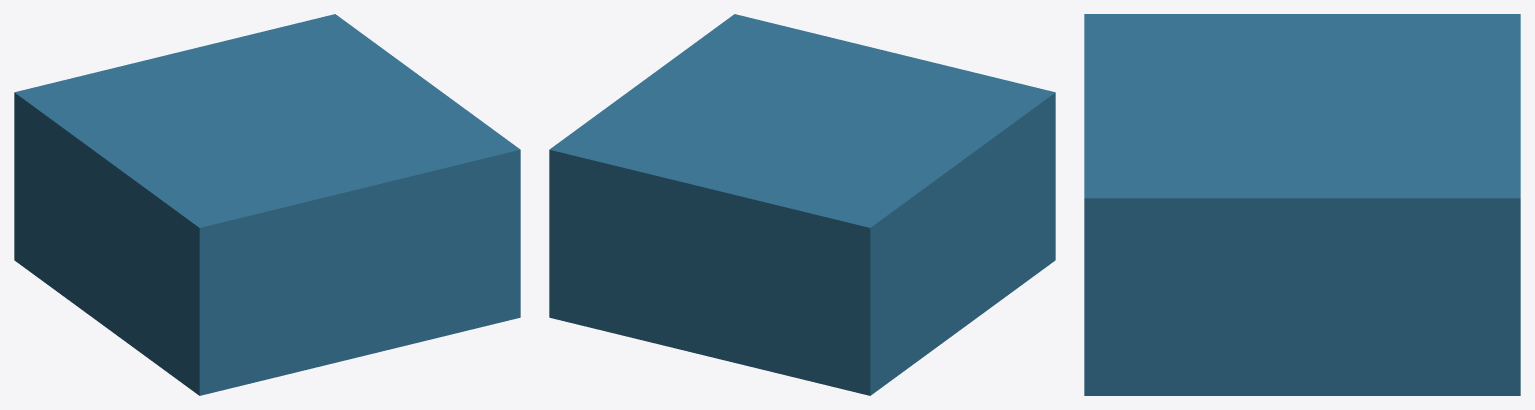
Rendered from model_tile_middle.fbx.
3 renders of one model, left to right at view 1: azimuth 30°, elevation 25°; view 2: azimuth 150°, elevation 25°; view 3: azimuth 270°, elevation 25°, orthographic. The views are drawn at different scales.
Visible parts, largest first — view 1: tile_middle; view 2: tile_middle; view 3: tile_middle.
Boxes of the visible parts, x1=… form: tile_middle: x1=14, y1=14, x2=520, y2=395; tile_middle: x1=549, y1=14, x2=1055, y2=395; tile_middle: x1=1084, y1=14, x2=1520, y2=395.
Size of the model in its own units: 60.96 by 30.48 by 60.96.
